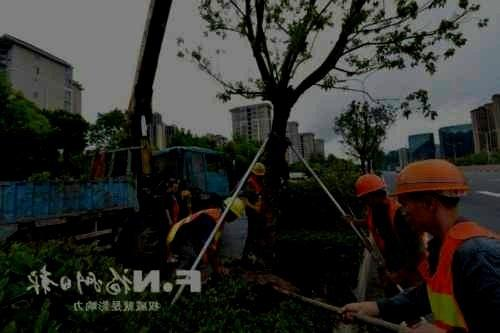helmet: (389, 158, 470, 232), (354, 173, 388, 212), (220, 196, 245, 223), (250, 162, 266, 181)
